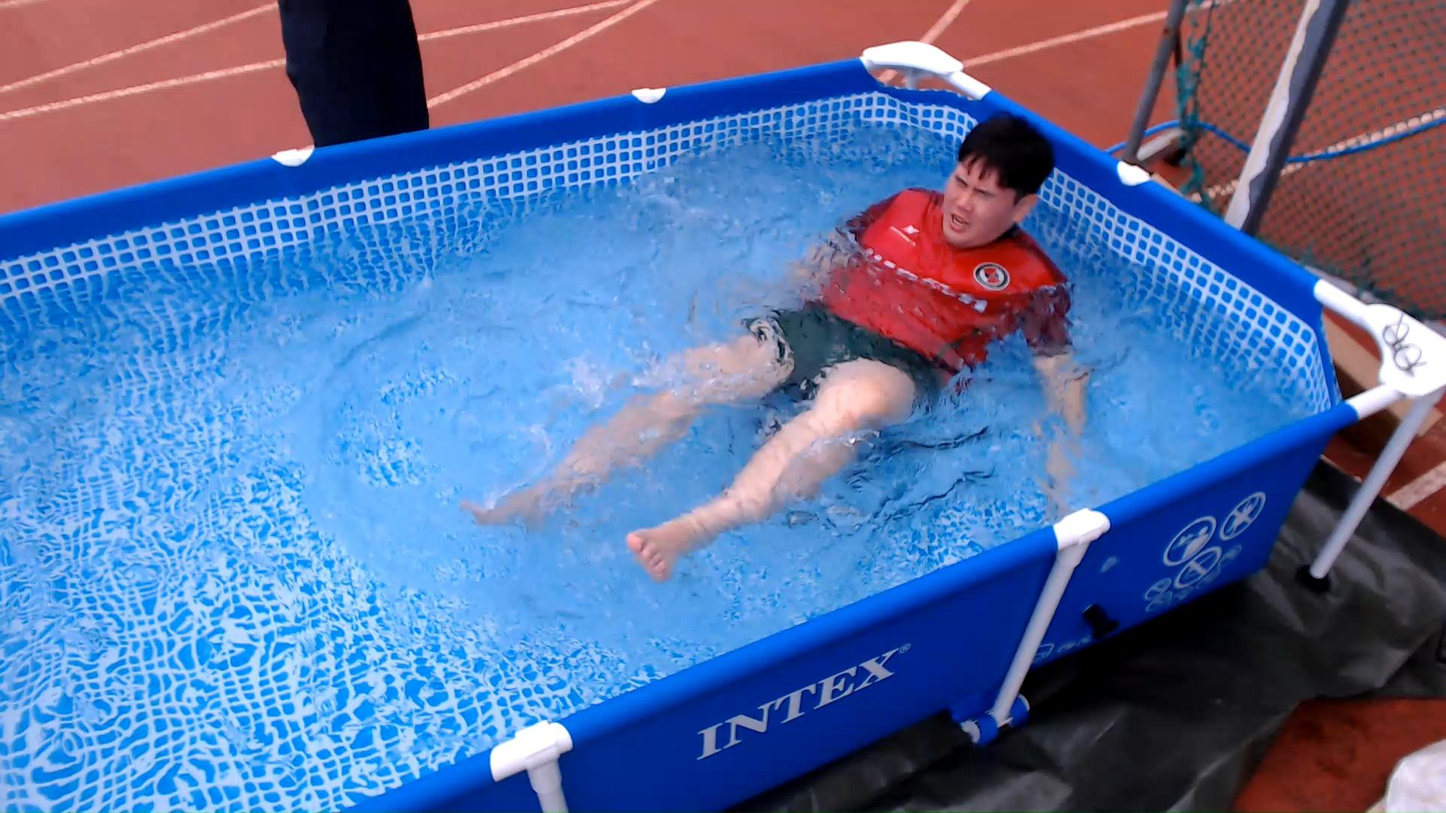Drowning: (364, 88, 1154, 634)
